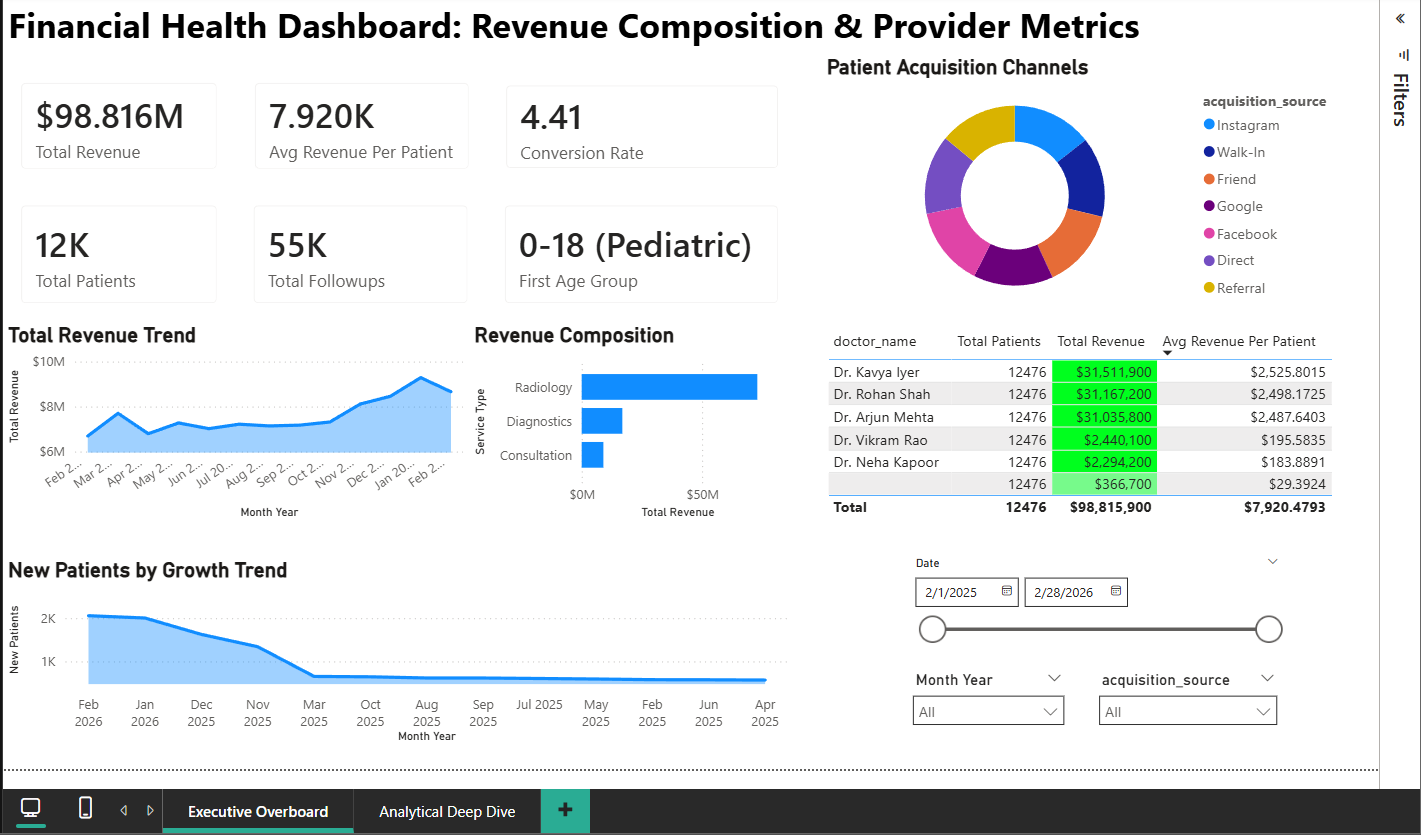

The dashboard page shown, as its layout file describes it:
{"tool":"powerbi","page":{"name":"Executive Overboard","canvas":[1280,720],"ordinal":0},"visuals":[{"type":"cardVisual","fields":{"Data":["_KPIs.Conversion Rate"]},"box":[451.1,66.8,287.1,111.5],"z":0,"group":"g2"},{"type":"lineChart","title":"New Patients by Growth Trend","fields":{"Category":["DateTable.Month Year"],"Y":["_KPIs.New Patients"]},"box":[0,522.9,738.2,176.9],"z":0},{"type":"textbox","box":[0,0,1280.2,59.2],"z":1000},{"type":"cardVisual","fields":{"Data":["_KPIs.Avg Revenue Per Patient"]},"box":[217.9,64,233.2,114.3],"z":2000,"group":"g2"},{"type":"lineChart","title":"Total Revenue Trend","fields":{"Category":["DateTable.Month Year"],"Y":["_KPIs.Total Revenue"]},"box":[0,305,433.2,187.1],"z":2000},{"type":"clusteredBarChart","title":"Revenue Composition","fields":{"Category":["services.service_category"],"Y":["_KPIs.Total Revenue"]},"box":[433.2,305,305,187.1],"z":3000},{"type":"cardVisual","fields":{"Data":["Min(patients.Age Group)"]},"box":[449.8,178.3,288.3,125.4],"z":4000,"group":"g2"},{"type":"tableEx","fields":{"Values":["doctors.doctor_name","_KPIs.Total Patients","_KPIs.Total Revenue","_KPIs.Avg Revenue Per Patient"]},"box":[761.2,305,489.5,187.1],"z":4000},{"type":"donutChart","title":"Patient Acquisition Channels","fields":{"Category":["patients.acquisition_source"],"Y":["_KPIs.Total Patients"]},"box":[761.2,55.1,489.5,240.9],"z":5000},{"type":"cardVisual","fields":{"Data":["_KPIs.Total Revenue"]},"box":[0,64,216.6,114.3],"z":6000,"group":"g2"},{"type":"group","id":"g1","title":"Group 1","box":[835.6,516.5,362.7,183.3],"z":6000},{"type":"group","id":"g2","title":"Group 2","box":[0,64,738.4,240.7],"z":7000},{"type":"cardVisual","fields":{"Data":["_KPIs.Total Followups"]},"box":[216.6,178.3,233.2,125.4],"z":8000,"group":"g2"},{"type":"cardVisual","fields":{"Data":["_KPIs.Total Patients"]},"box":[0,178.3,216.6,125.4],"z":10000,"group":"g2"},{"type":"slicer","fields":{"Values":["DateTable.Date"]},"box":[835.6,516.5,362.4,97.8],"z":11000,"group":"g1"},{"type":"slicer","fields":{"Values":["DateTable.Month Year"]},"box":[835.6,622.6,161.1,77.8],"z":12000,"group":"g1"},{"type":"slicer","fields":{"Values":["patients.acquisition_source"]},"box":[1008.5,622.6,185.9,77.8],"z":13000,"group":"g1"}]}

Visuals, with their boxes on the page's 1280x720 design canvas (x1, y1, x2, y2). These are canvas units, not pixel positions in the 1421x835 screenshot, which may show the page scaled, cropped or inside an application window:
cardVisual - _KPIs.Conversion Rate: [451,67,738,178]
"New Patients by Growth Trend" lineChart: [0,523,738,700]
textbox: [0,0,1280,59]
cardVisual - _KPIs.Avg Revenue Per Patient: [218,64,451,178]
"Total Revenue Trend" lineChart: [0,305,433,492]
"Revenue Composition" clusteredBarChart: [433,305,738,492]
cardVisual - Min(patients.Age Group): [450,178,738,304]
tableEx - doctors.doctor_name x _KPIs.Total Patients: [761,305,1251,492]
"Patient Acquisition Channels" donutChart: [761,55,1251,296]
cardVisual - _KPIs.Total Revenue: [0,64,217,178]
"Group 1" group: [836,516,1198,700]
"Group 2" group: [0,64,738,305]
cardVisual - _KPIs.Total Followups: [217,178,450,304]
cardVisual - _KPIs.Total Patients: [0,178,217,304]
slicer - DateTable.Date: [836,516,1198,614]
slicer - DateTable.Month Year: [836,623,997,700]
slicer - patients.acquisition_source: [1008,623,1194,700]
